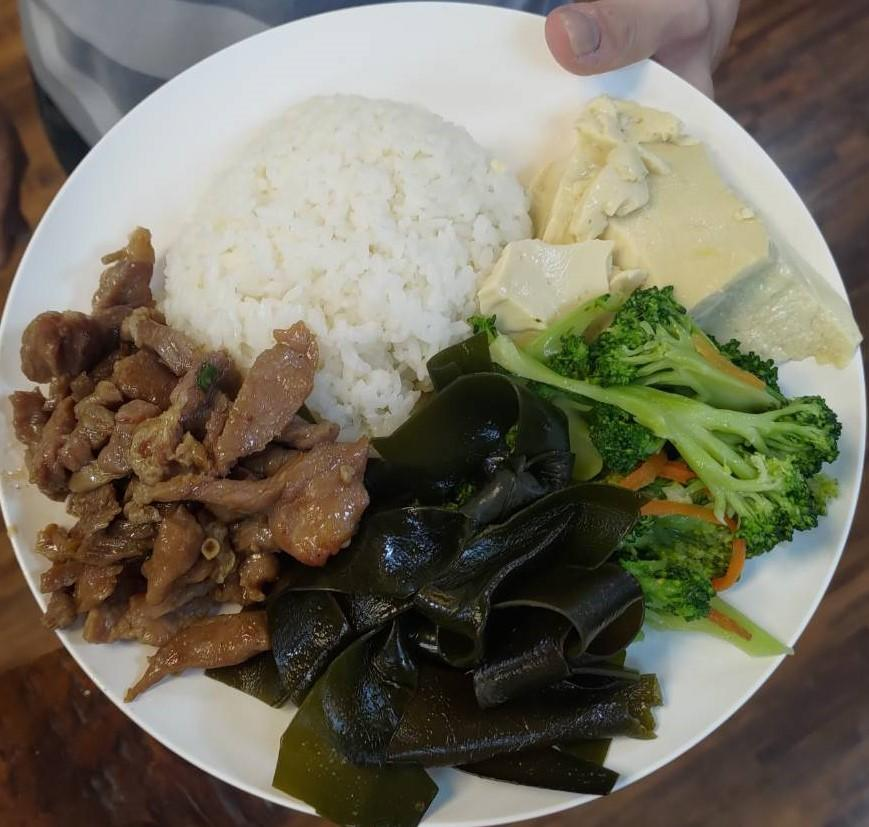big fried chicken leg: (8, 8, 864, 816)
big herbal chicken leg: (136, 76, 547, 421)
braised fish fillet: (253, 372, 644, 811), (494, 306, 851, 614), (488, 86, 850, 370)
braised pork: (6, 276, 355, 667)
